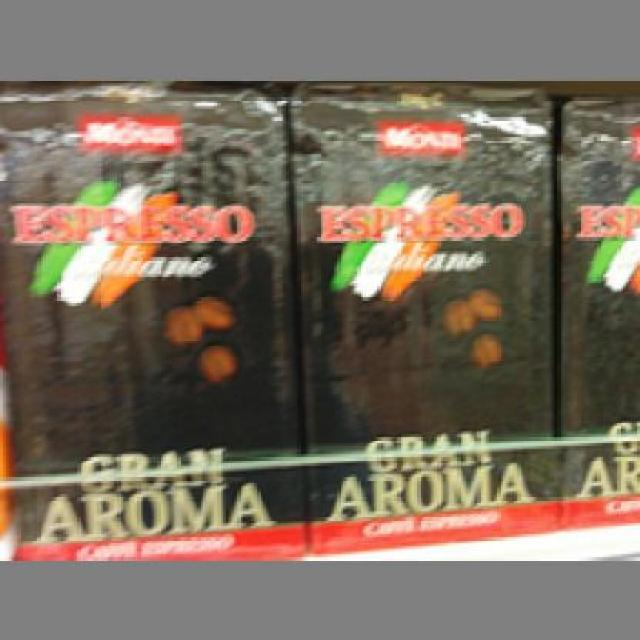Coffee: (0, 79, 306, 555), (286, 76, 554, 552)
